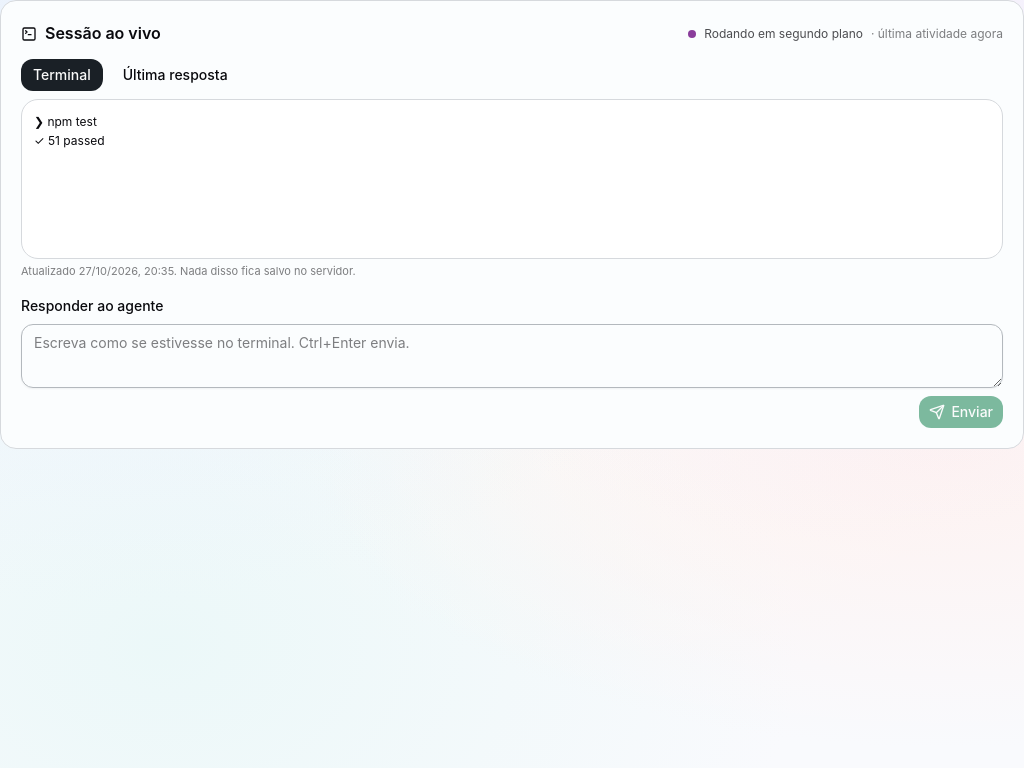
Scenario: live session panel › sends a reply with a stable idempotency key and clears it after delivery
Type "pode seguir" into the text box labelled "Responder ao agente" at (512, 356), box [21,324,1003,388]
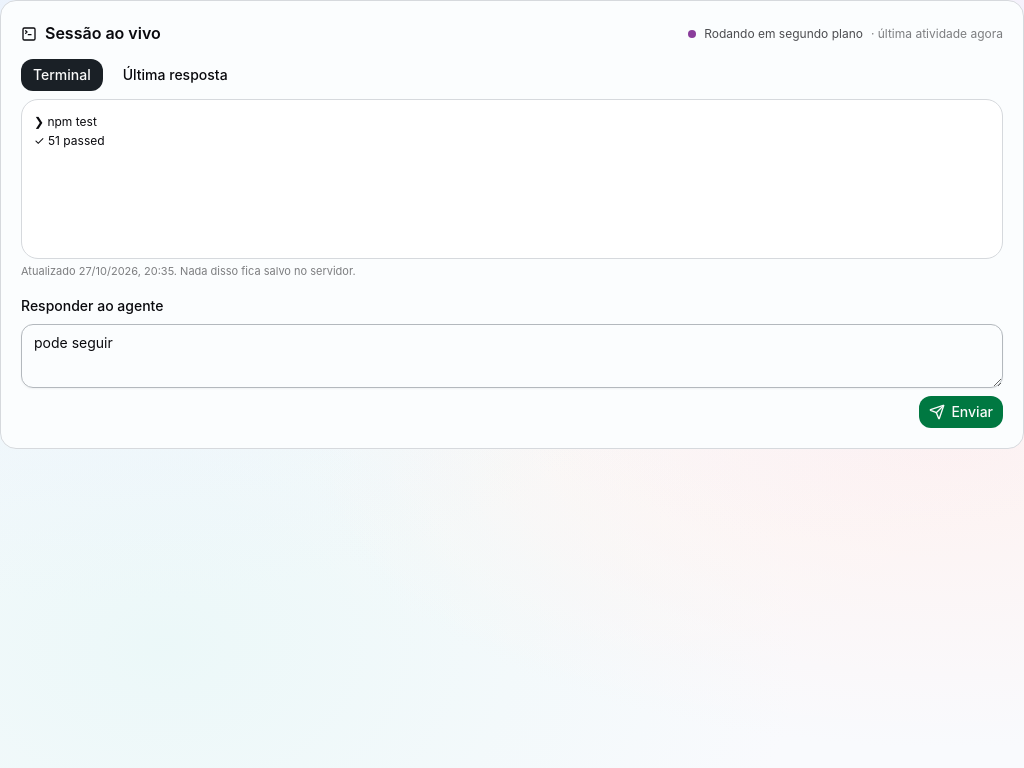
Press Enter in the text box labelled "Responder ao agente", box [21,324,1003,388]
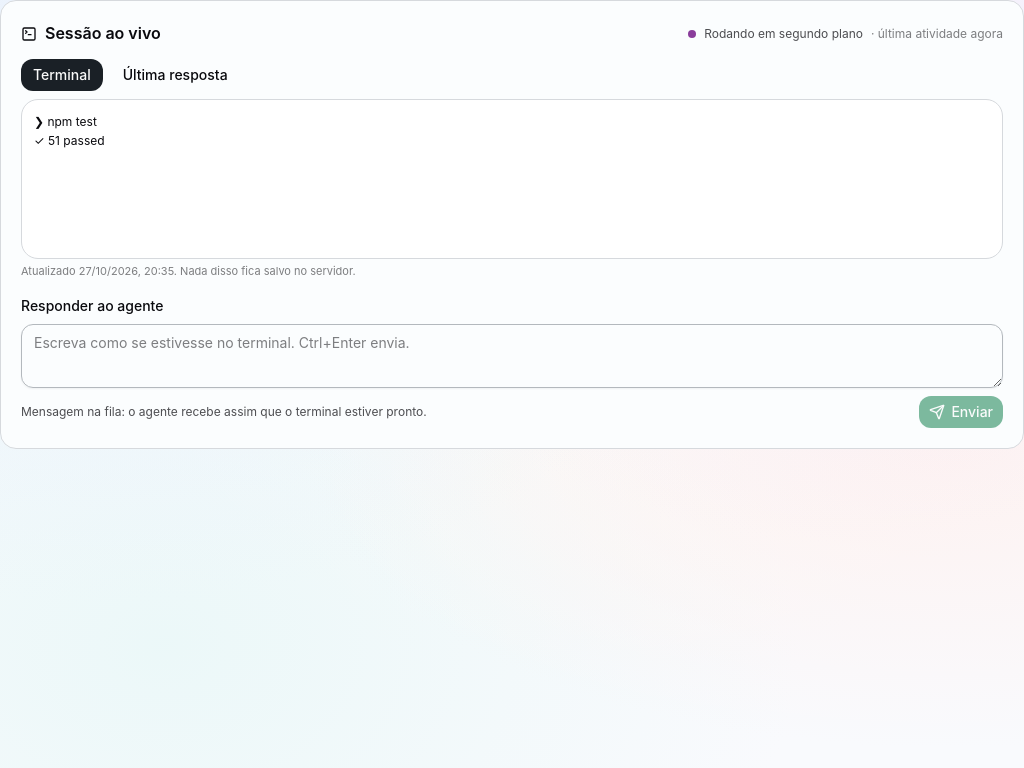
Check: the text "Mensagem na fila: o agente recebe assim que o terminal estiver pronto." is shown, box [21,404,427,420]
Check: the text box labelled "Responder ao agente" is empty, box [21,324,1003,388]
